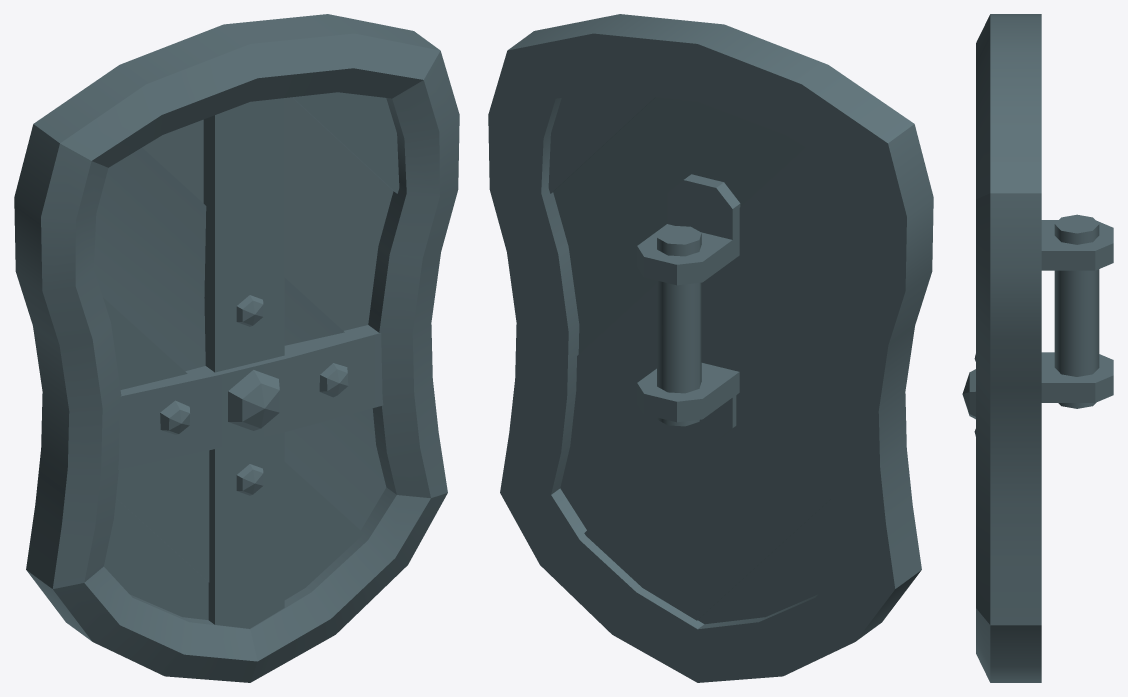
File: Knight_Shield_Final.fbx
The picture shows the model from 3 angles, left to right: view 1: azimuth 30°, elevation 25°; view 2: azimuth 150°, elevation 25°; view 3: azimuth 270°, elevation 25°; orthographic projection. The views are drawn at different scales.
Visible parts, largest first — view 1: KnightShield_Low; view 2: KnightShield_Low; view 3: KnightShield_Low.
Boxes of the visible parts, x1,y1,x2,y2 form: KnightShield_Low: (14, 14, 459, 682); KnightShield_Low: (488, 14, 933, 682); KnightShield_Low: (962, 14, 1113, 682).
Size of the model in its own units: 67.72 by 98.75 by 21.92.
